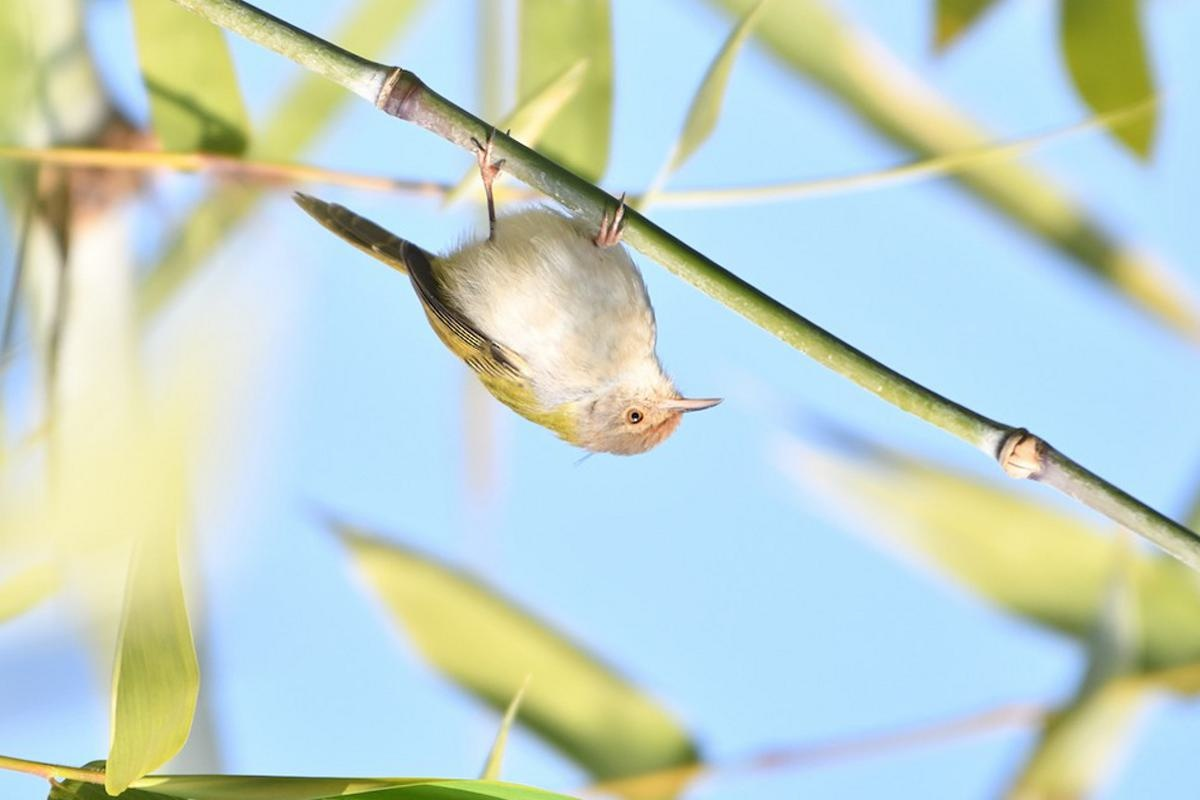tailorbird: (276, 62, 761, 491)
